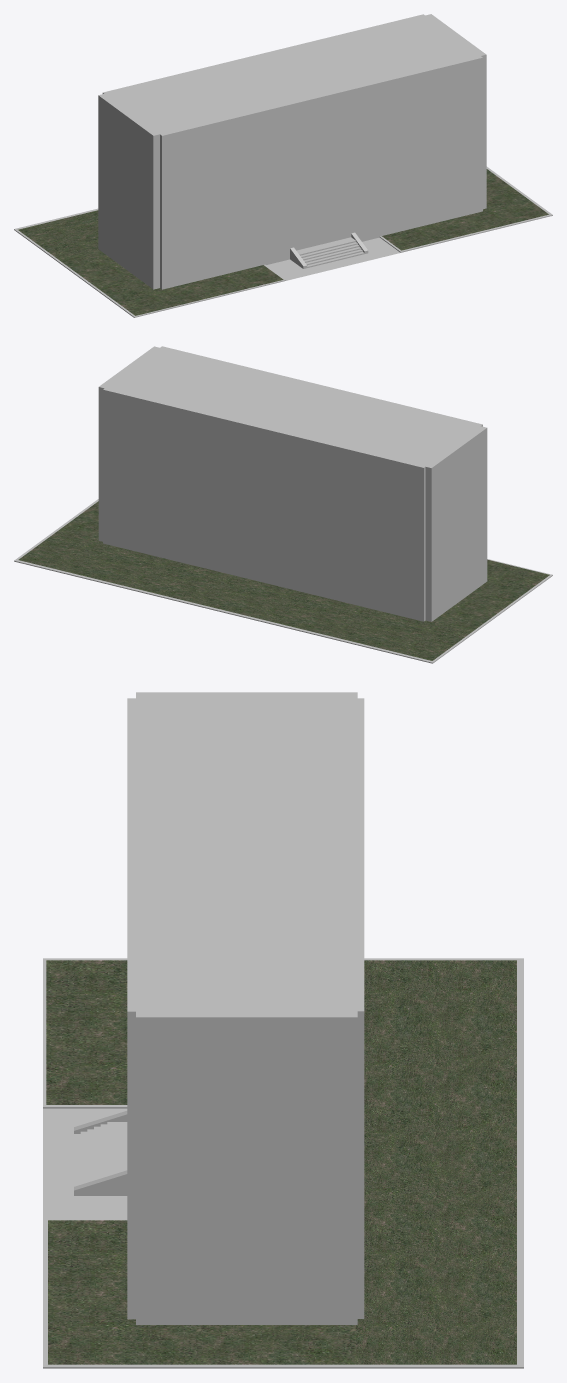
The picture shows the model from 3 angles, top to bottom: view 1: azimuth 30°, elevation 25°; view 2: azimuth 150°, elevation 25°; view 3: azimuth 270°, elevation 25°; orthographic projection. The views are drawn at different scales.
Visible parts, largest first — view 1: BB-027_LOD, BB-027; view 2: BB-027_LOD, BB-027; view 3: BB-027_LOD, BB-027.
Boxes of the visible parts, bbox=[...] form: BB-027_LOD: bbox=[14, 14, 551, 317]; BB-027: bbox=[14, 56, 552, 317]; BB-027_LOD: bbox=[16, 346, 549, 662]; BB-027: bbox=[14, 389, 552, 663]; BB-027_LOD: bbox=[43, 692, 523, 1368]; BB-027: bbox=[43, 958, 523, 1368].
Size of what is drawn, in the model's own units: 72.4 by 25.58 by 36.
